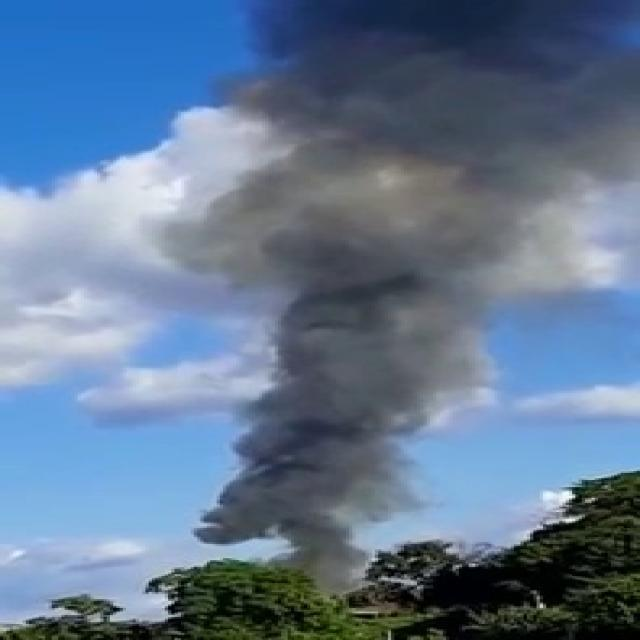Smoke: (181, 0, 640, 617)
